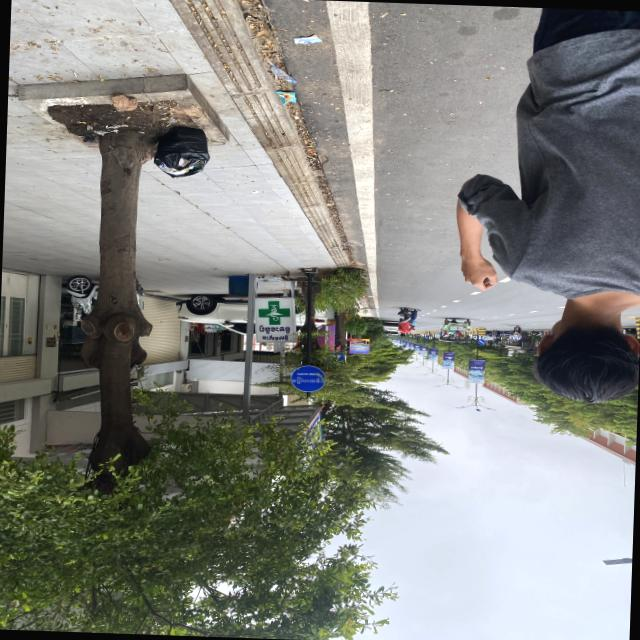Yolov11kh: (258, 325, 291, 335), (291, 376, 324, 384), (260, 334, 288, 341)
